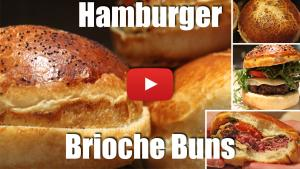hamburger_buns: (10, 30, 142, 164)
